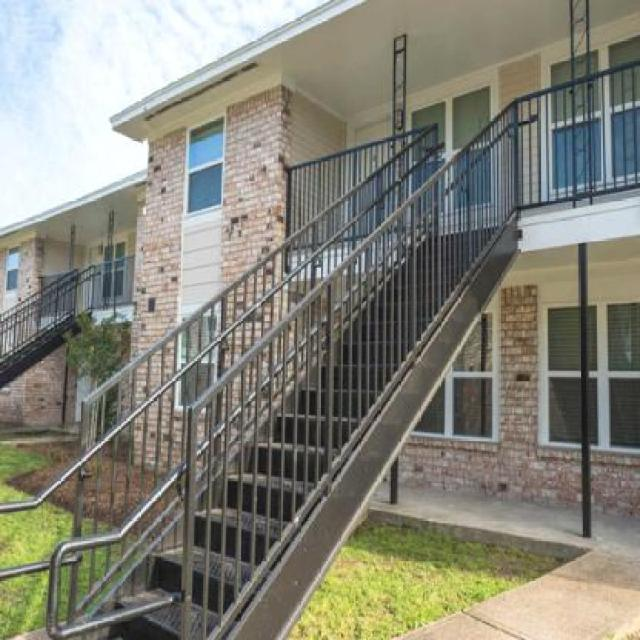stair: (3, 92, 559, 639)
